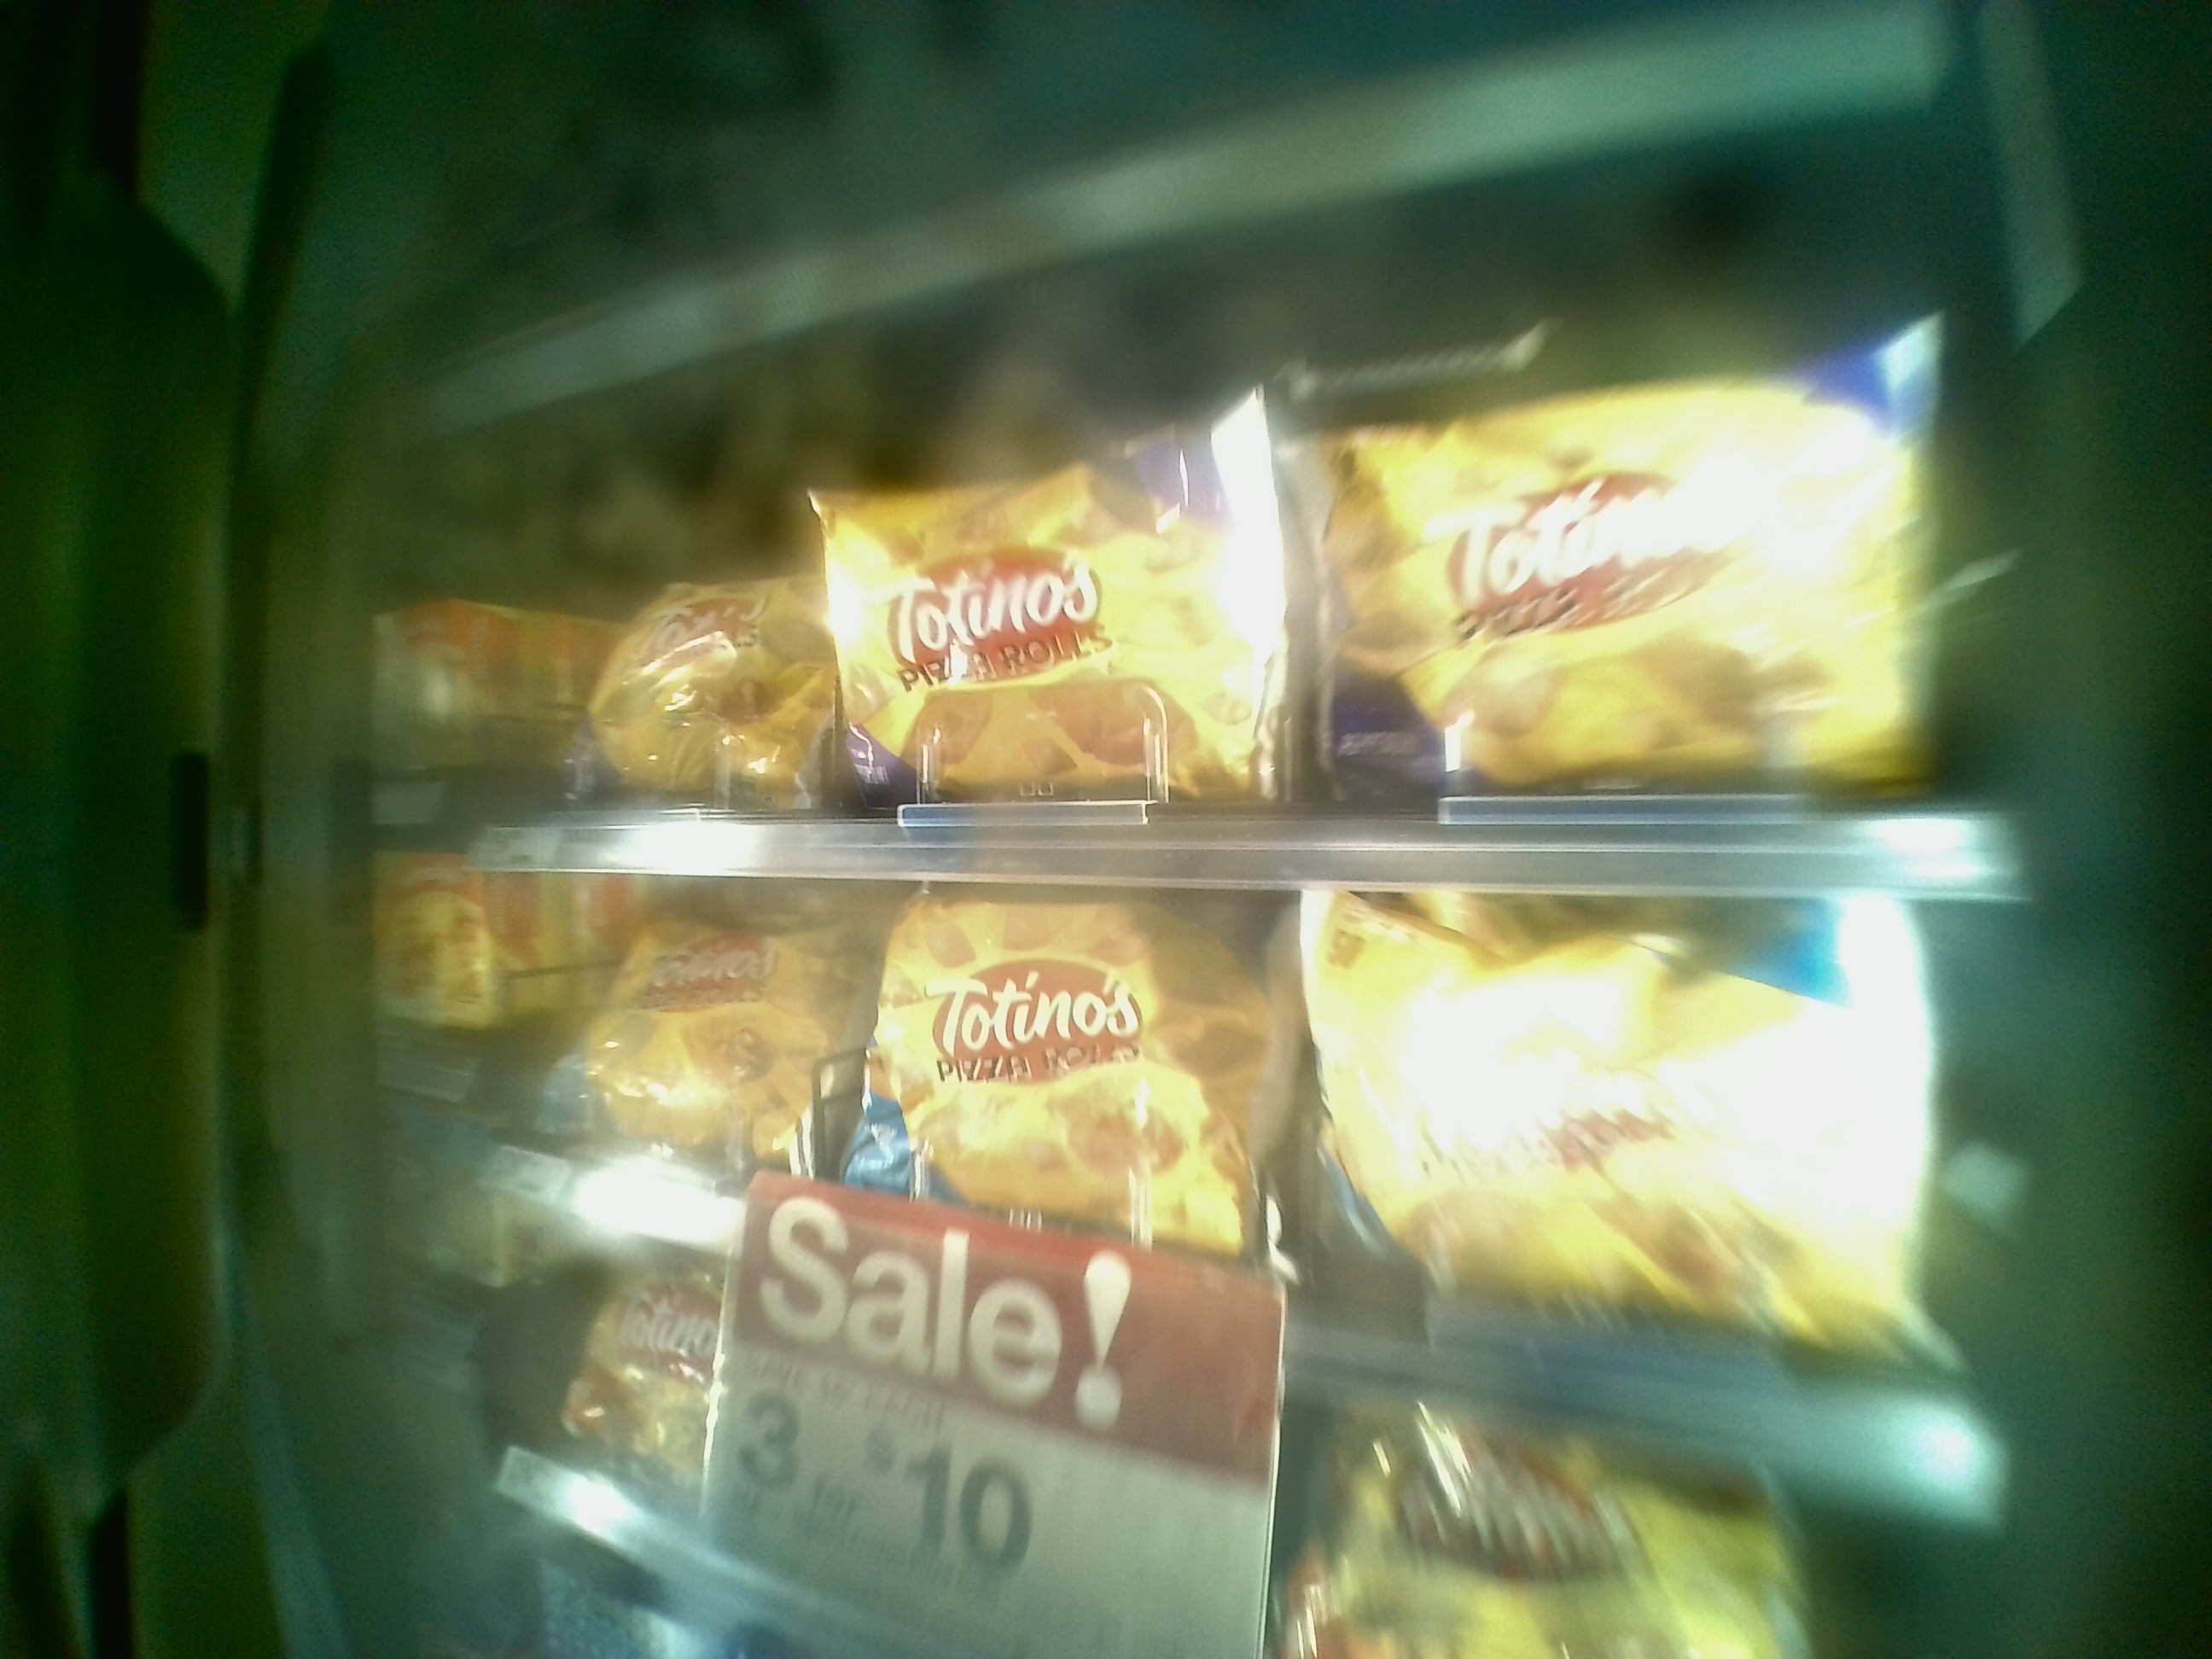shelf: (516, 835, 1991, 1438), (550, 443, 2003, 864)
